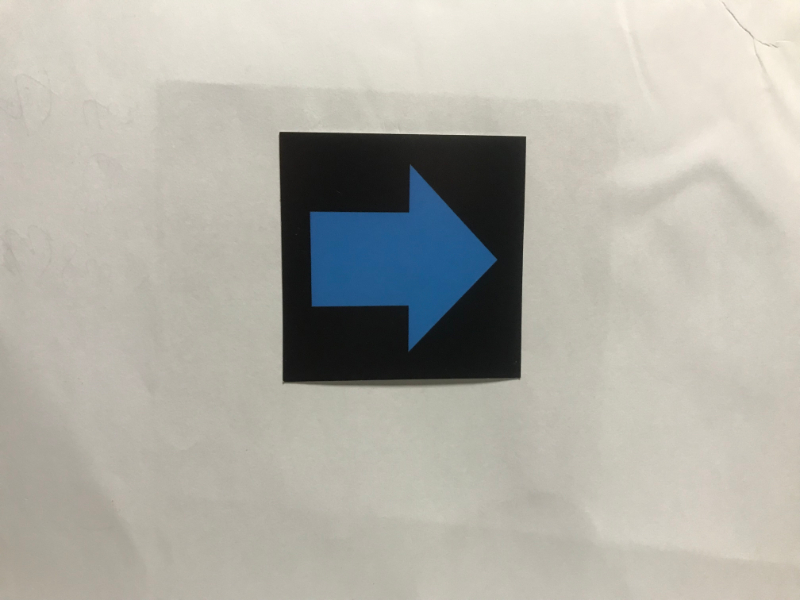LA-4: (292, 140, 518, 374)
